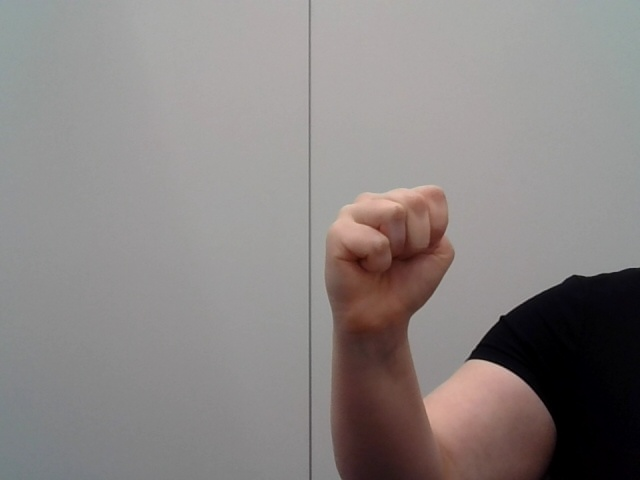down: (306, 179, 467, 322)
